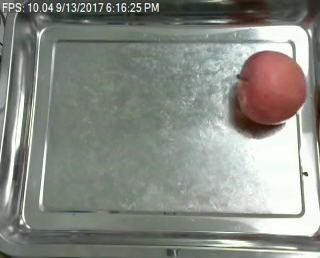Apple: (236, 49, 308, 125)
